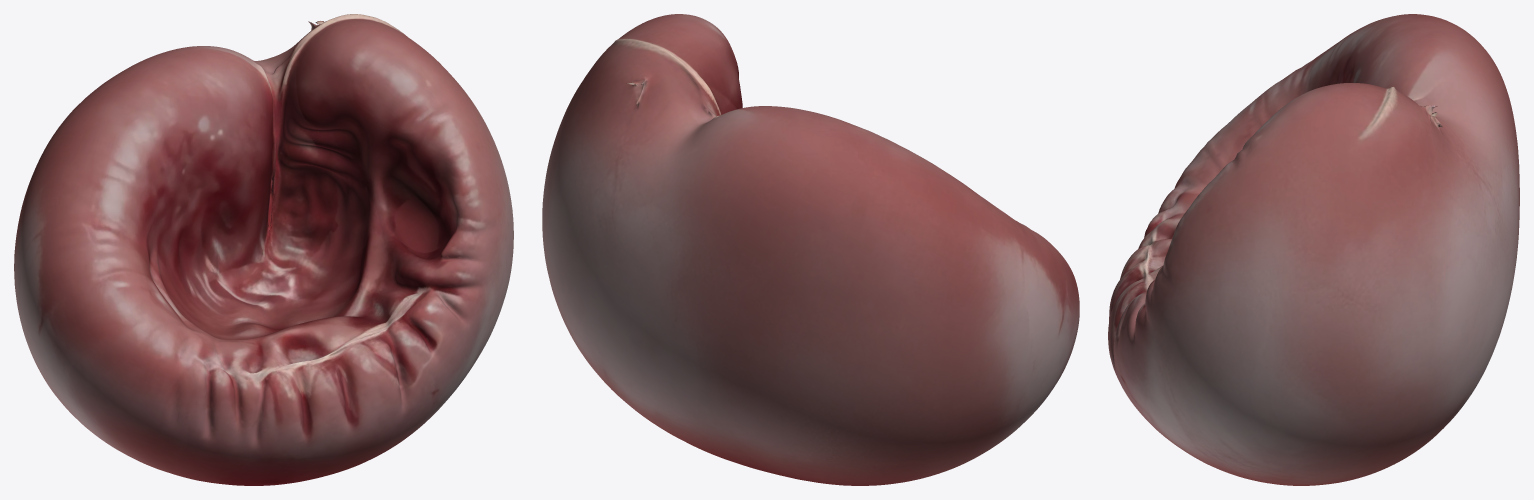
The model's file is vet_v2_organ_dog_stomach.glb.
3 views of the same model, side by side, from view 1: azimuth 30°, elevation 25°; view 2: azimuth 150°, elevation 25°; view 3: azimuth 270°, elevation 25° (orthographic). The views are drawn at different scales.
Visible parts, largest first — view 1: model; view 2: model; view 3: model.
Boxes of the visible parts, box(x1,y1,x2,y2) form: model: box(14, 14, 513, 485); model: box(542, 14, 1079, 485); model: box(1108, 14, 1519, 485).
Bounding box in the file's own units: 1.9 × 1.57 × 1.38.
Materials: 1 (1 with a texture image).
